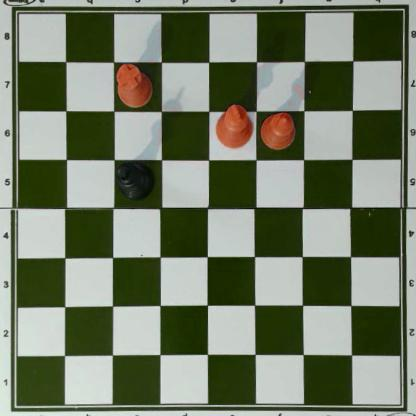black-king: (117, 159, 153, 198)
white-bishop: (260, 110, 295, 149)
white-king: (212, 105, 254, 147)
white-rook: (115, 63, 152, 104)
